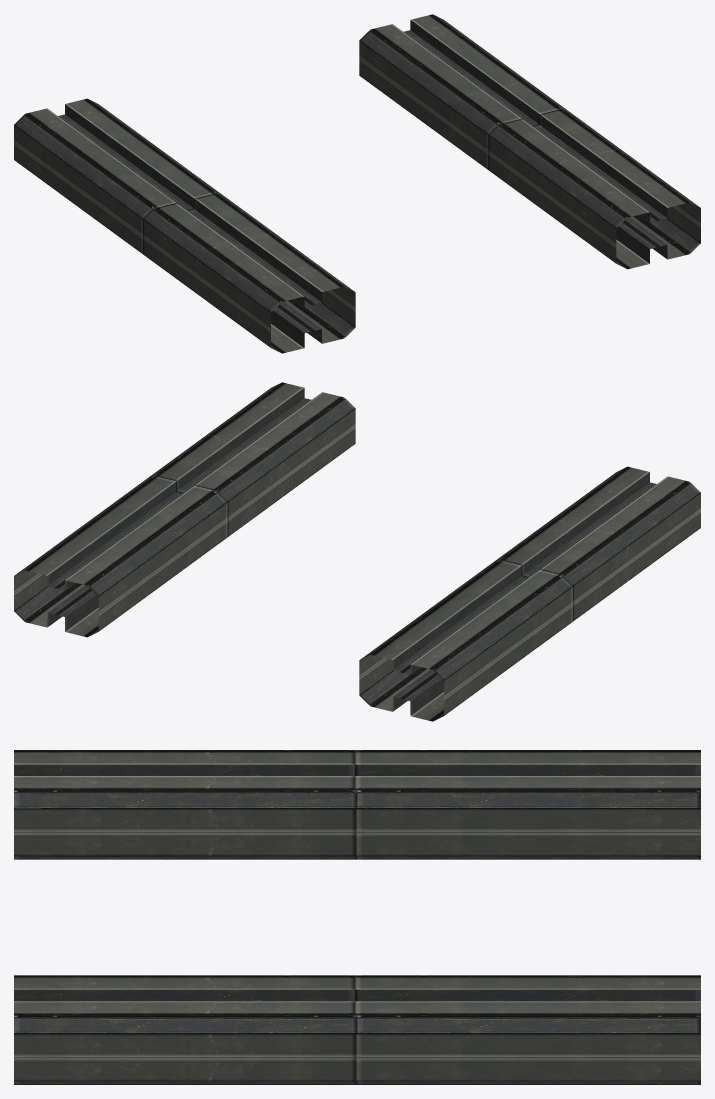
The model's file is Neon_WindowHospMid01b.FBX.
3 renders of one model, top to bottom at view 1: azimuth 30°, elevation 25°; view 2: azimuth 150°, elevation 25°; view 3: azimuth 270°, elevation 25°, orthographic. The views are drawn at different scales.
Visible parts, largest first — view 1: Neon_WindowHospMid01b; view 2: Neon_WindowHospMid01b; view 3: Neon_WindowHospMid01b.
Boxes of the visible parts, x1,y1,x2,y2 form: Neon_WindowHospMid01b: (14,14,700,353); Neon_WindowHospMid01b: (14,382,700,721); Neon_WindowHospMid01b: (14,750,700,1084).
Bounding box in the file's own units: 1.93 × 0.2222 × 2.
